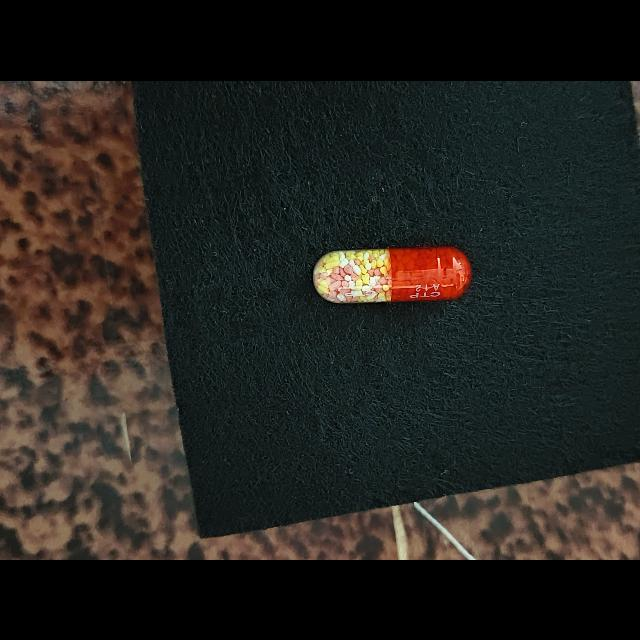Intact Capsule: (313, 245, 471, 303)
